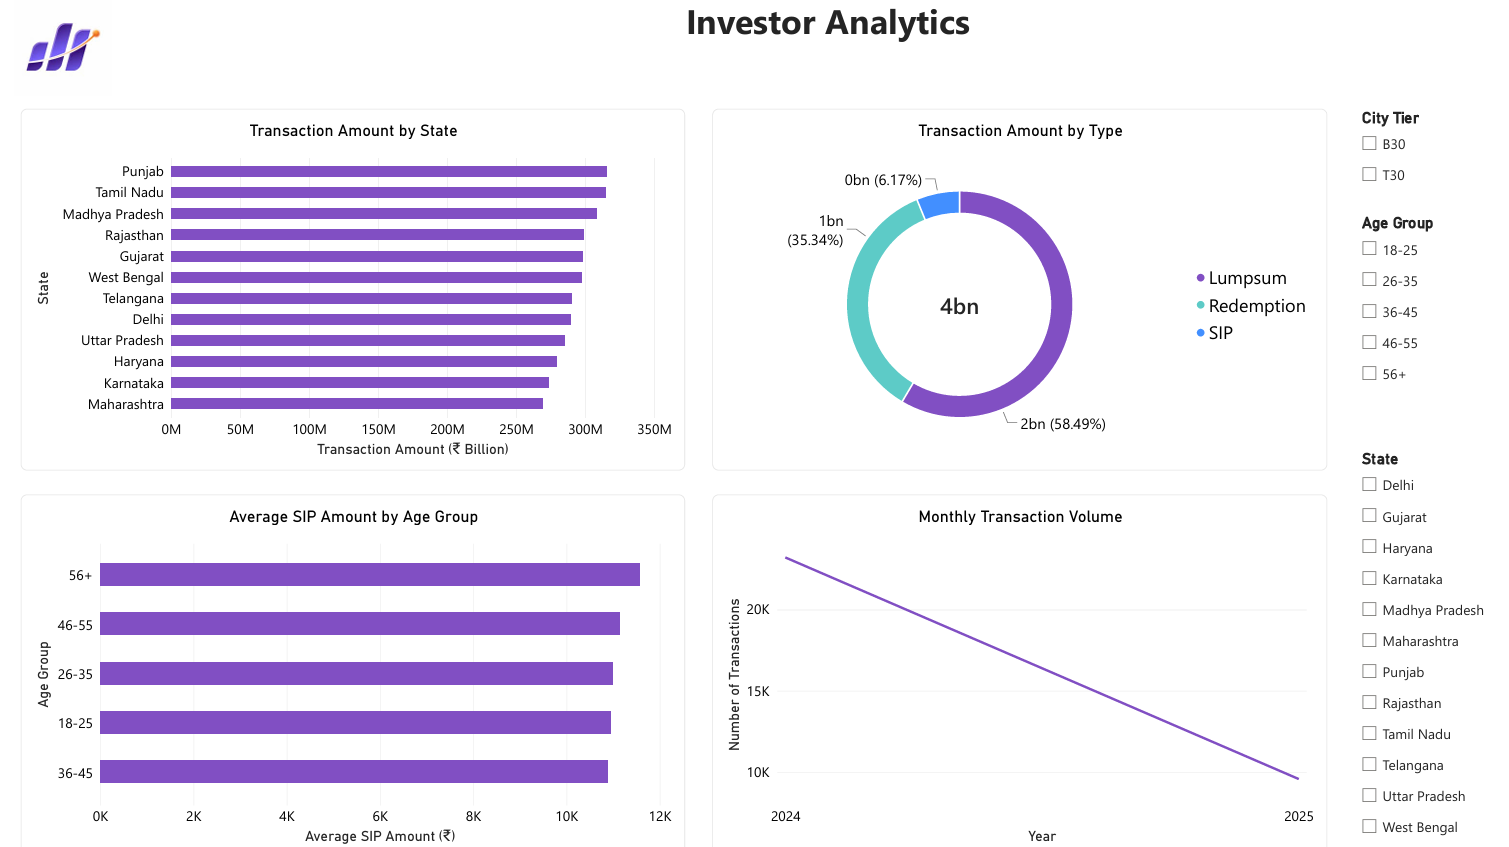

The page's visual inventory and layout, read from the dashboard file:
{"tool":"powerbi","page":{"name":"Investor Analytics","canvas":[1920,1080],"ordinal":2},"visuals":[{"type":"textbox","box":[130,0,1790,122],"z":0},{"type":"clusteredBarChart","title":"Transaction Amount by State","fields":{"Category":["clean_transactions.state"],"Y":["Sum(clean_transactions.amount_inr)"]},"box":[12,140,834,454],"z":1000},{"type":"donutChart","title":"Transaction Amount by Type","fields":{"Category":["clean_transactions.transaction_type"],"Y":["Sum(clean_transactions.amount_inr)"]},"box":[880,140,772,454],"z":2000},{"type":"clusteredBarChart","title":"Average SIP Amount by Age Group","fields":{"Category":["clean_transactions.age_group"],"Y":["Avg(clean_transactions.amount_inr)"]},"box":[12,624,834,456],"z":3000},{"type":"lineChart","title":"Monthly Transaction Volume","fields":{"Category":["clean_transactions.transaction_date.Variation.Date Hierarchy.Year","clean_transactions.transaction_date.Variation.Date Hierarchy.Quarter","clean_transactions.transaction_date.Variation.Date Hierarchy.Month","clean_transactions.transaction_date.Variation.Date Hierarchy.Day"],"Y":["CountNonNull(clean_transactions.investor_id)"]},"box":[880,624,772,456],"z":4000},{"type":"slicer","fields":{"Values":["clean_transactions.state"]},"box":[1688,568,208,498],"z":5000},{"type":"slicer","fields":{"Values":["clean_transactions.age_group"]},"box":[1688,272,208,282],"z":6000},{"type":"slicer","fields":{"Values":["clean_transactions.city_tier"]},"box":[1688,140,208,98],"z":7000},{"type":"image","box":[0,2,130,122],"z":8000}]}

Visuals, with their boxes in screenshot pixels (x1, y1, x2, y2), scaled from the page's 1920x1080 canvas onto the 1509x847 screenshot:
textbox: 102/0/1508/96
"Transaction Amount by State" clusteredBarChart: 9/110/665/466
"Transaction Amount by Type" donutChart: 692/110/1298/466
"Average SIP Amount by Age Group" clusteredBarChart: 9/489/665/846
"Monthly Transaction Volume" lineChart: 692/489/1298/846
slicer - clean_transactions.state: 1327/445/1490/836
slicer - clean_transactions.age_group: 1327/213/1490/434
slicer - clean_transactions.city_tier: 1327/110/1490/187
image: 0/2/102/97
